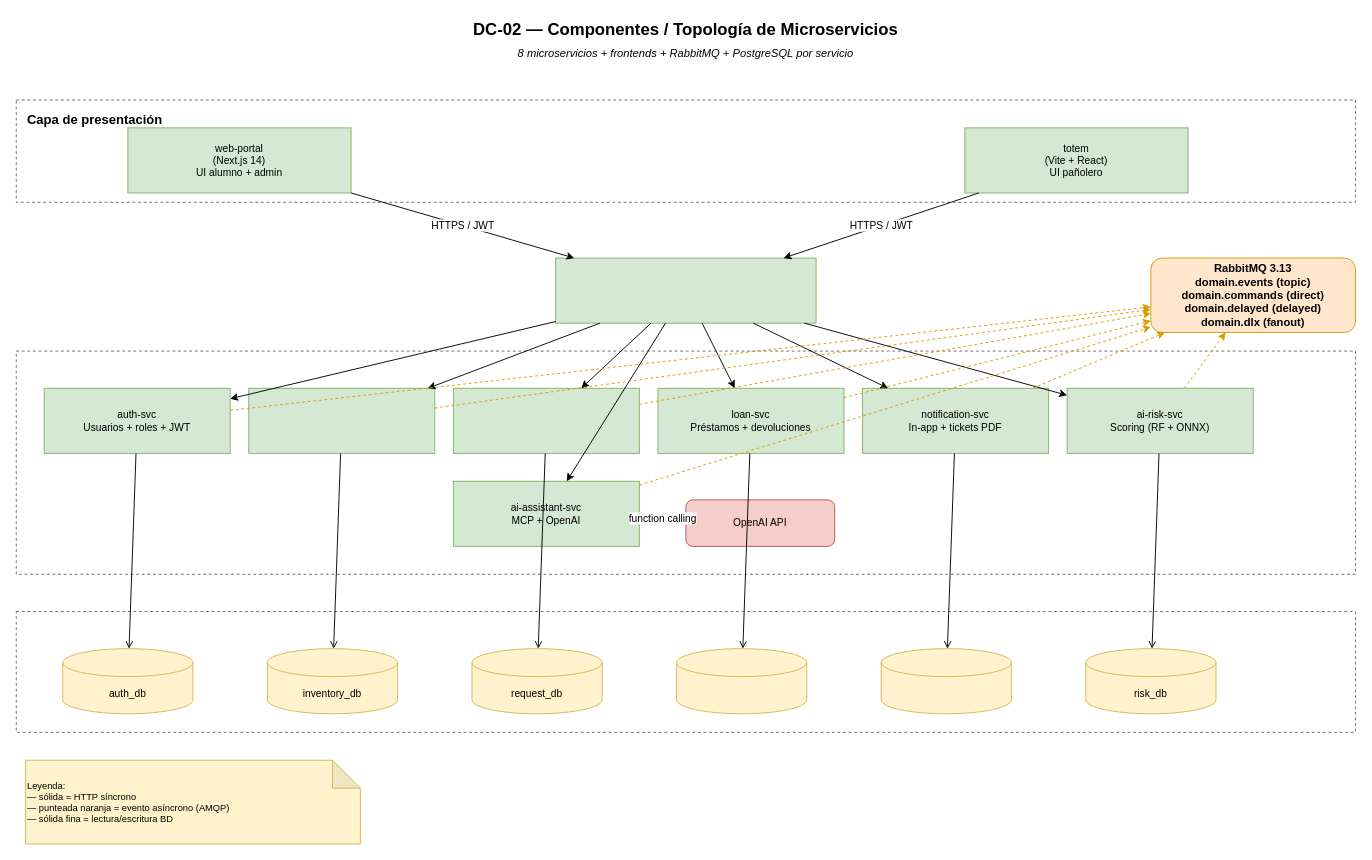
This 1372x860 diagram has some shape labels left out. Each missing label, with the box of its shape:
api-gateway (NestJS BFF) autenticación + ruteo: (555, 257, 816, 323)
Capa de microservicios (NestJS 10 + Prisma 5): (15, 350, 1355, 574)
inventory-svc Catálogo + stock: (248, 387, 435, 453)
loan_db: (676, 648, 807, 714)
notification_db: (880, 648, 1011, 714)
Persistencia (PostgreSQL 16 — schema por servicio): (15, 611, 1355, 732)
request-svc Solicitudes + workflow: (452, 387, 639, 453)
